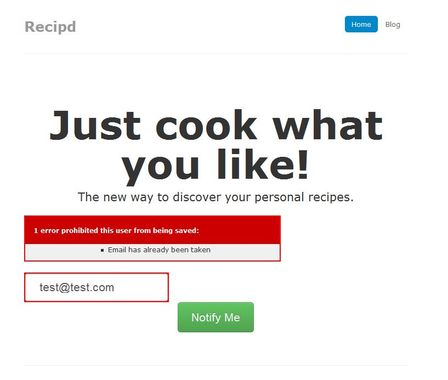error_field: (23, 271, 169, 303)
error_message: (30, 224, 200, 237)
